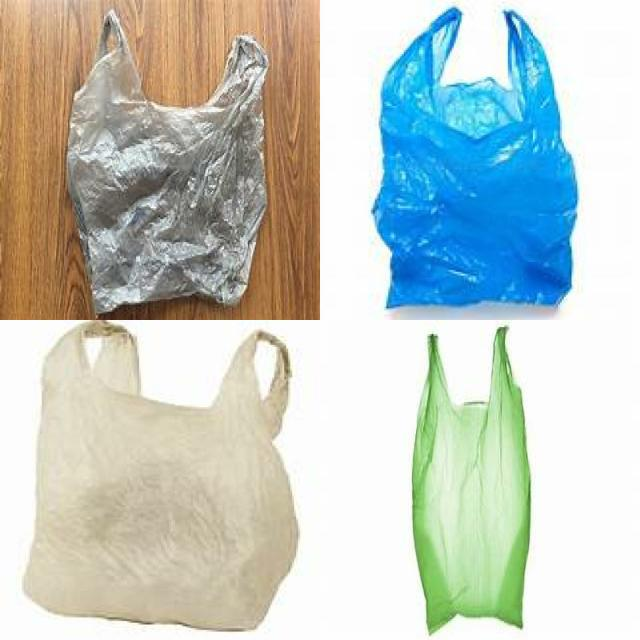Single-layer Plastic: (25, 322, 298, 629), (372, 8, 578, 307), (68, 11, 269, 314), (412, 328, 530, 632)
